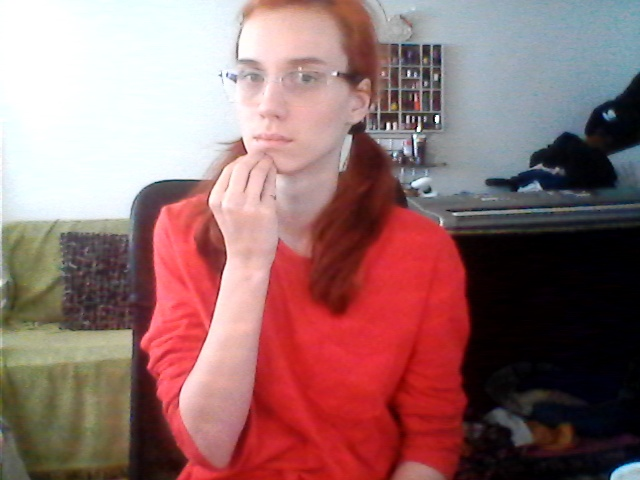c: (209, 139, 296, 252)
